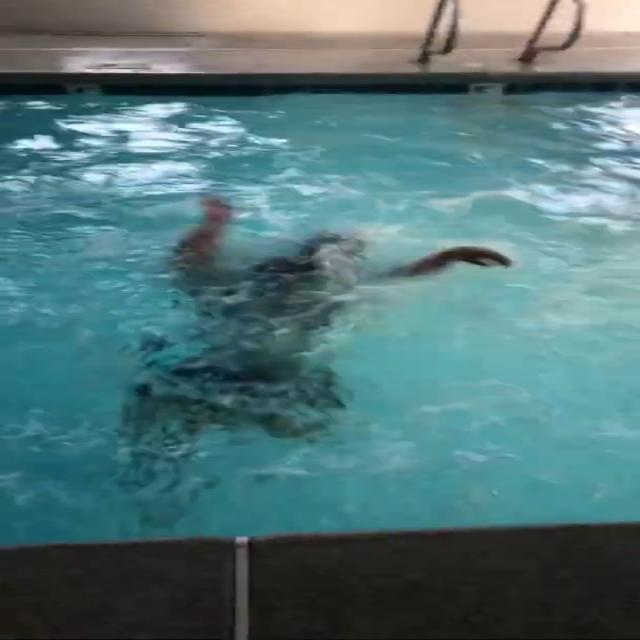Drowning: (53, 165, 510, 497)
